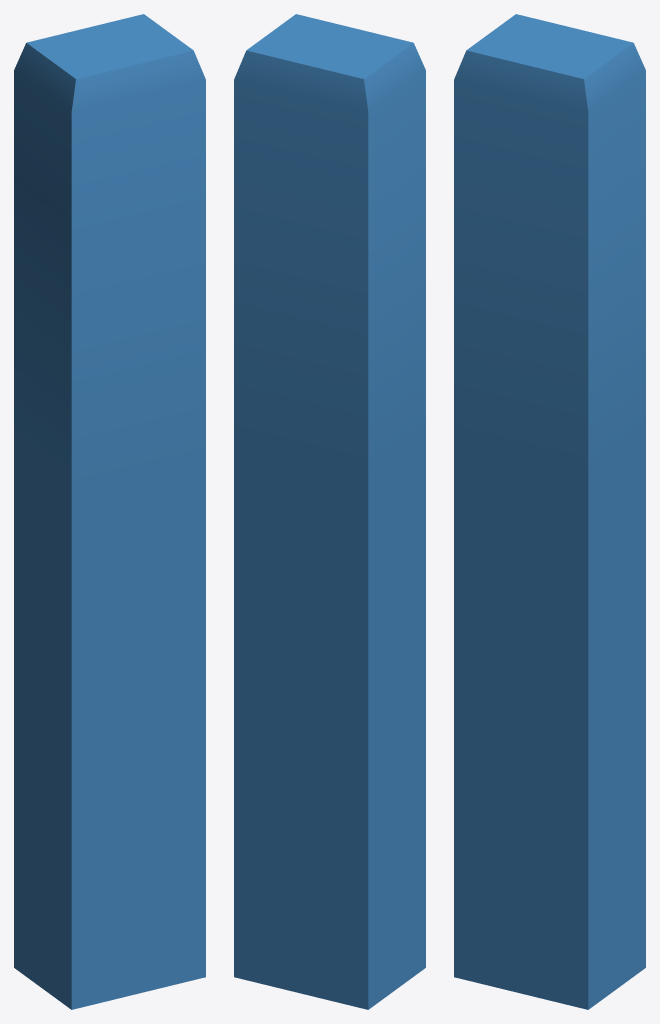
The model's file is Deco_Fence_Column_A.fbx.
3 renders of one model, left to right at view 1: azimuth 30°, elevation 25°; view 2: azimuth 150°, elevation 25°; view 3: azimuth 330°, elevation 25°, orthographic.
Visible parts, largest first — view 1: Deco_Fence_Column_A; view 2: Deco_Fence_Column_A; view 3: Deco_Fence_Column_A.
Boxes of the visible parts, x1,y1,x2,y2 form: Deco_Fence_Column_A: (14,14,205,1009); Deco_Fence_Column_A: (234,14,425,1009); Deco_Fence_Column_A: (454,14,645,1009).
Bounding box in the file's own units: 60.04 × 396 × 44.57.
